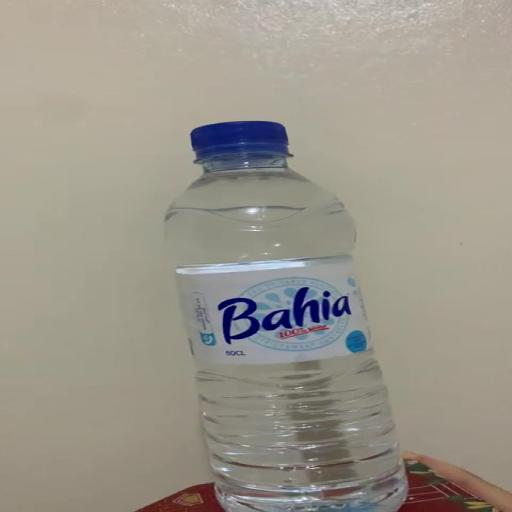bouteille conformite: (151, 114, 464, 512)
